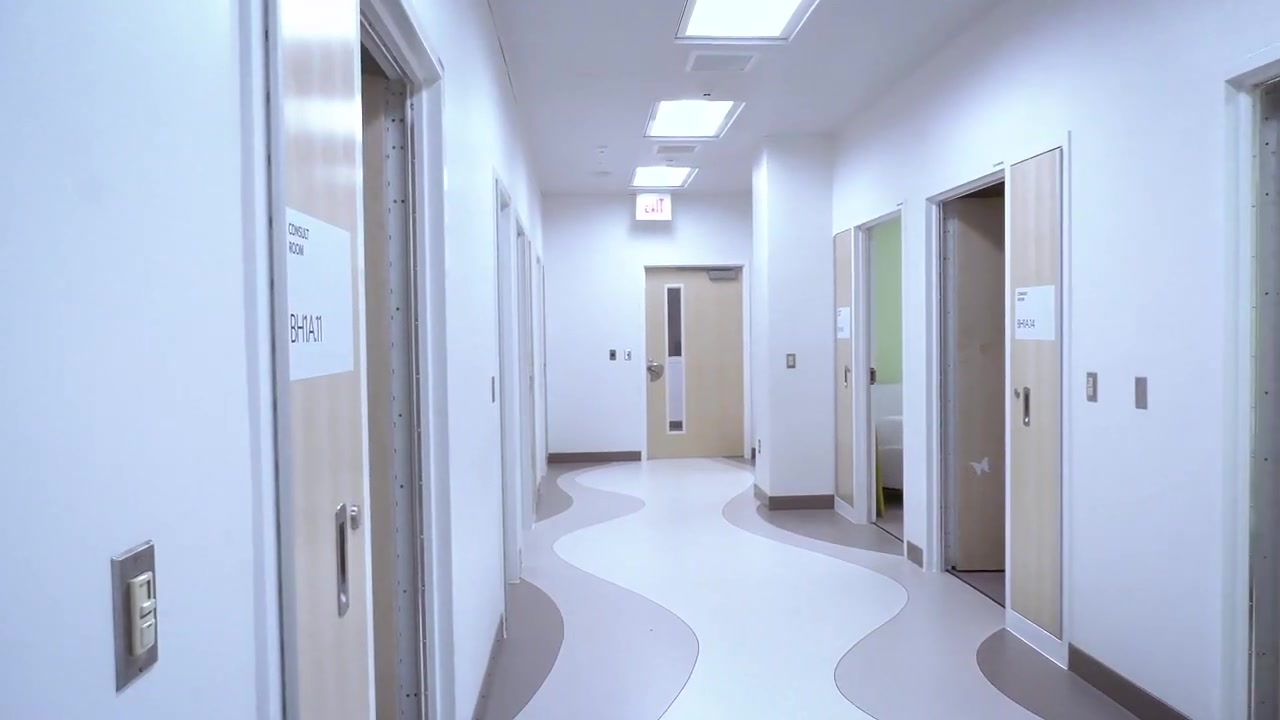door_handle: (647, 363, 664, 382), (843, 367, 852, 388)
